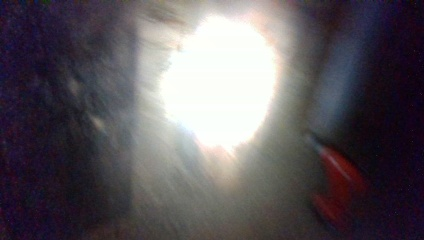drill: (299, 131, 369, 236)
